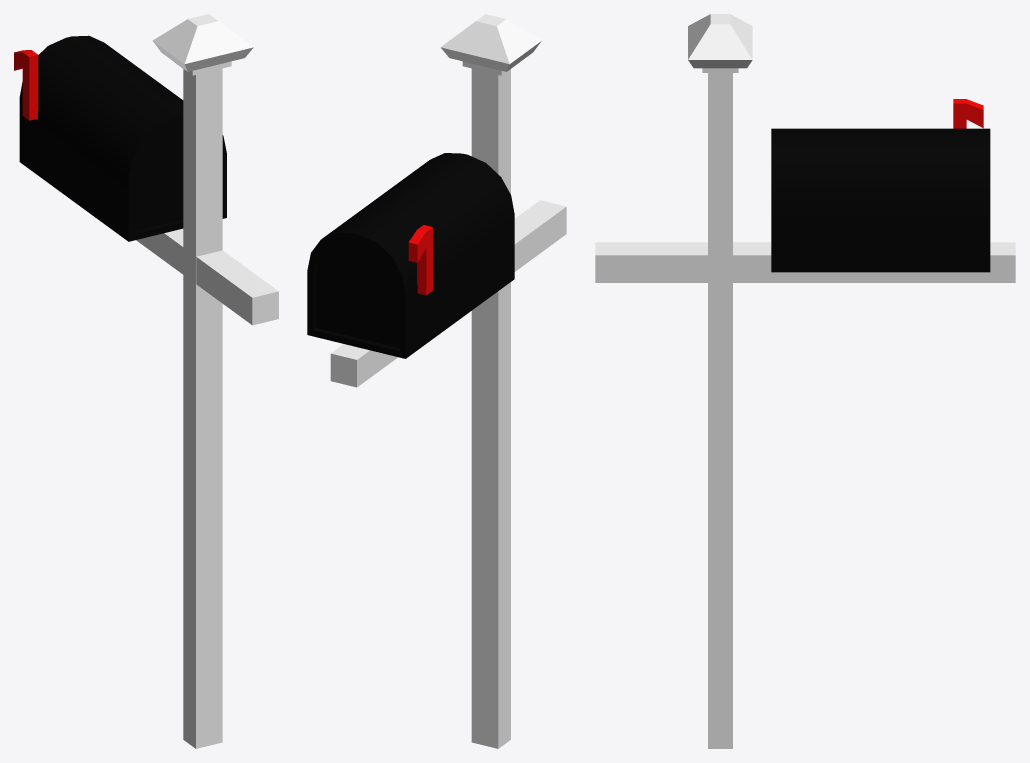
The model's file is mailbox2.fbx.
The picture shows the model from 3 angles, left to right: view 1: azimuth 30°, elevation 25°; view 2: azimuth 150°, elevation 25°; view 3: azimuth 270°, elevation 25°; orthographic projection.
Parts seen in each view (by area): view 1: mailbox2; view 2: mailbox2; view 3: mailbox2.
Part boxes in pixels (left/top/right/bottom): mailbox2: left=14, top=14, right=278, bottom=748; mailbox2: left=307, top=14, right=566, bottom=748; mailbox2: left=595, top=14, right=1015, bottom=748.
Size of the model in its own units: 18.86 by 121 by 63.98.
